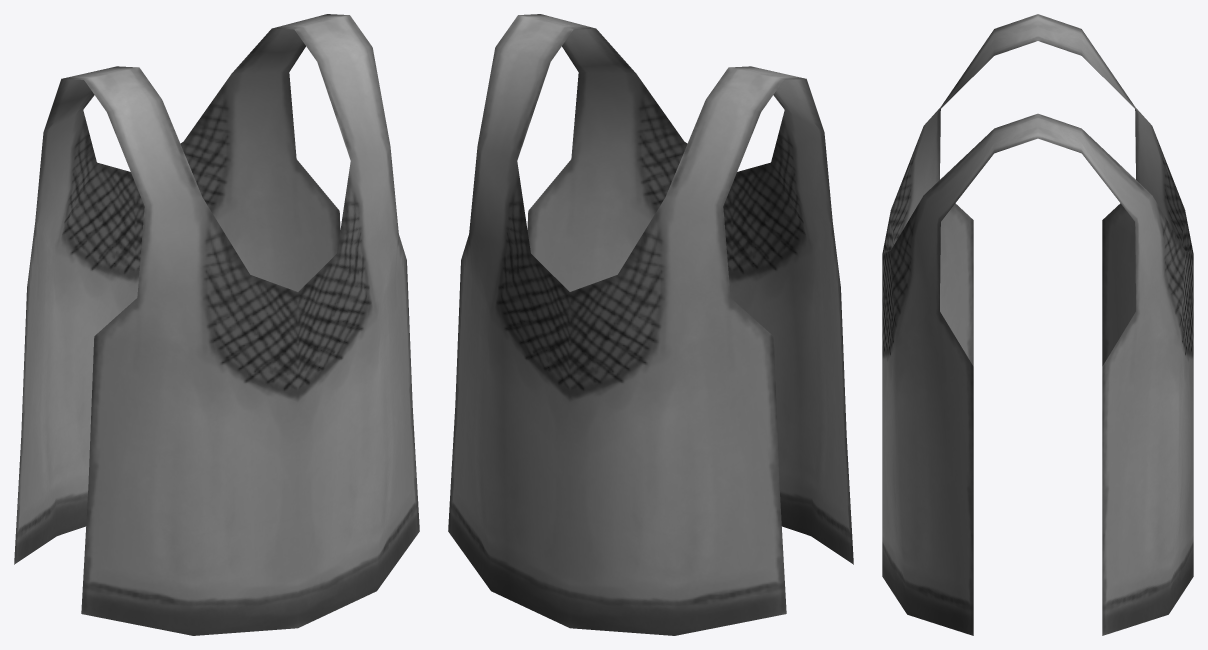
Rendered from Props_Armor.fbx.
The picture shows the model from 3 angles, left to right: view 1: azimuth 30°, elevation 25°; view 2: azimuth 150°, elevation 25°; view 3: azimuth 270°, elevation 25°; orthographic projection. The views are drawn at different scales.
Parts seen in each view (by area): view 1: Prop_Harnas_001; view 2: Prop_Harnas_001; view 3: Prop_Harnas_001.
Part boxes in pixels (left/top/right/bottom): Prop_Harnas_001: left=14, top=14, right=419, bottom=635; Prop_Harnas_001: left=448, top=14, right=853, bottom=635; Prop_Harnas_001: left=882, top=14, right=1193, bottom=635.
Size of the model in its own units: 4.57 by 6.72 by 3.79.
